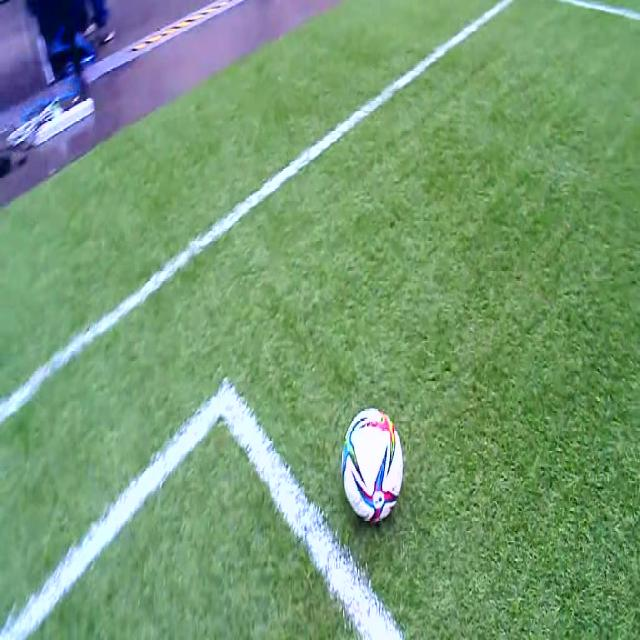ball: (342, 408, 404, 522)
